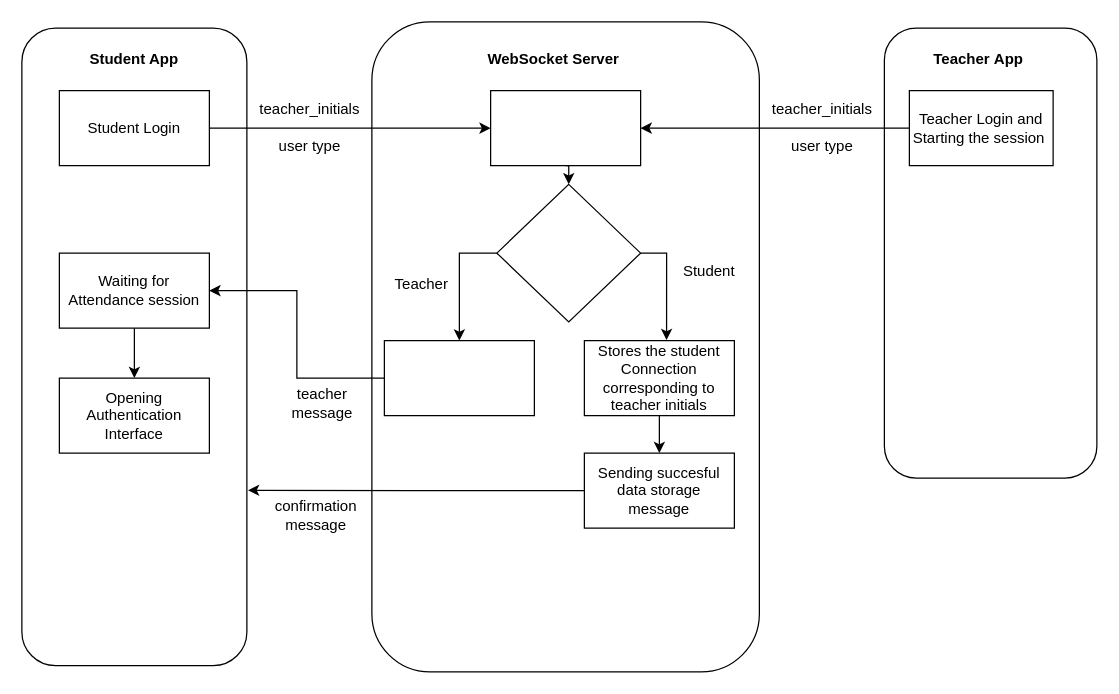
The diagram is 1119 pixels wide and 694 high, and some of its shapes have lost their labels. Here are the shapes that lost their labels. From the top down, the box of each, then its label:
(489, 89, 641, 166): Listining for any mesage
(496, 183, 641, 322): Chesks type of user
(383, 339, 534, 416): Sending the 'Attendance Started' mesage to students
